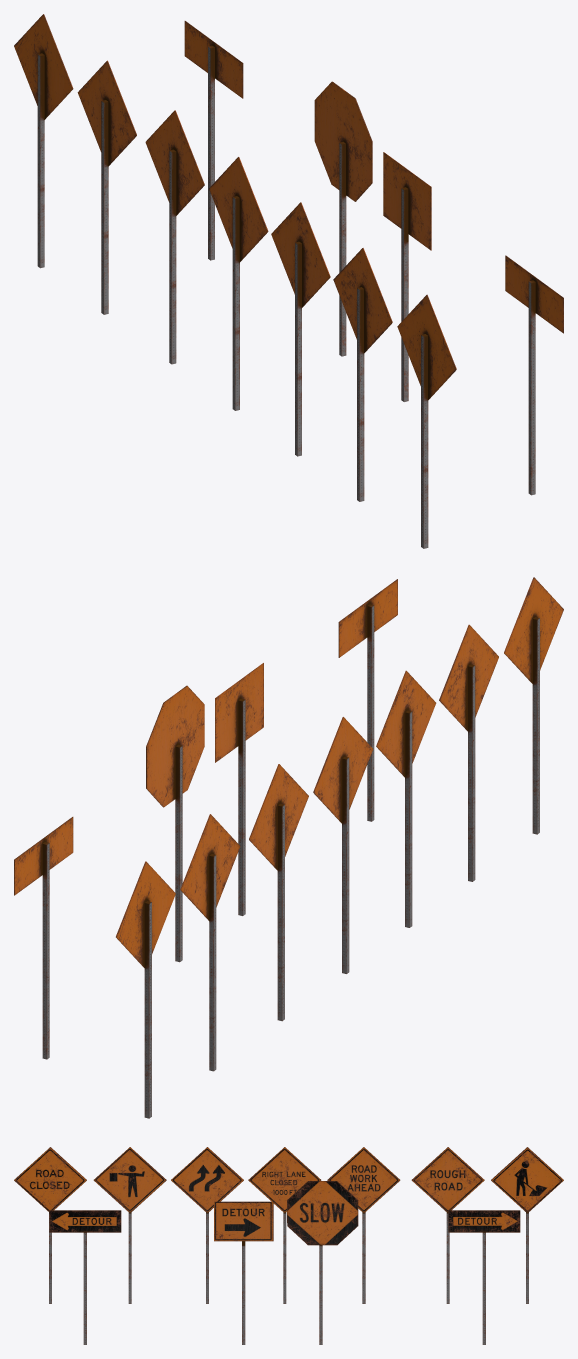
Rendered from construction_signs_set.glb.
The picture shows the model from 3 angles, top to bottom: view 1: azimuth 30°, elevation 25°; view 2: azimuth 150°, elevation 25°; view 3: azimuth 270°, elevation 25°; orthographic projection. The views are drawn at different scales.
Visible parts, largest first — view 1: pCube51, pCube44, pCube45, pCube43, pCube46, pCube49, pCube40, pCube42, pCube41, pCube48, pCube47, pCube104 (+10 smaller); view 2: pCube51, pCube42, pCube43, pCube45, pCube44, pCube49, pCube40, pCube46, pCube41, pCube47, pCube48, pCube101 (+10 smaller); view 3: pCube51, pCube44, pCube41, pCube45, pCube40, pCube42, pCube49, pCube46, pCube43, pCube47, pCube48, pCube101 (+9 smaller).
Part boxes in pixels (x1,y1,x2,y2): pCube51: (314,81,372,201); pCube44: (14,14,73,119); pCube45: (77,60,136,166); pCube43: (209,157,268,261); pCube46: (145,110,204,215); pCube49: (383,152,431,250); pCube40: (397,294,456,400); pCube42: (271,202,330,307); pCube41: (333,248,392,353); pCube48: (184,21,243,98); pCube47: (505,255,563,333); pCube104: (528,280,535,495); pCube51: (146,685,204,807); pCube42: (376,670,436,777); pCube43: (313,717,373,823); pCube45: (180,814,240,920); pCube44: (116,861,175,967); pCube49: (215,663,263,762); pCube40: (504,577,563,683); pCube46: (249,764,308,870); pCube41: (439,624,498,731); pCube47: (338,579,397,657); pCube48: (14,817,73,895); pCube101: (42,842,49,1059); pCube51: (287,1181,358,1245); pCube44: (491,1147,563,1213); pCube41: (93,1147,166,1213); pCube45: (411,1147,484,1212); pCube40: (14,1147,86,1211); pCube42: (171,1147,243,1213); pCube49: (214,1201,273,1241); pCube46: (327,1147,400,1213); pCube43: (248,1147,321,1213); pCube47: (49,1210,121,1232); pCube48: (448,1210,520,1232); pCube101: (482,1232,485,1344).
Bounding box in the file's own units: 10.36 × 18.58 × 56.49.
Materials: 1 (1 with a texture image).
